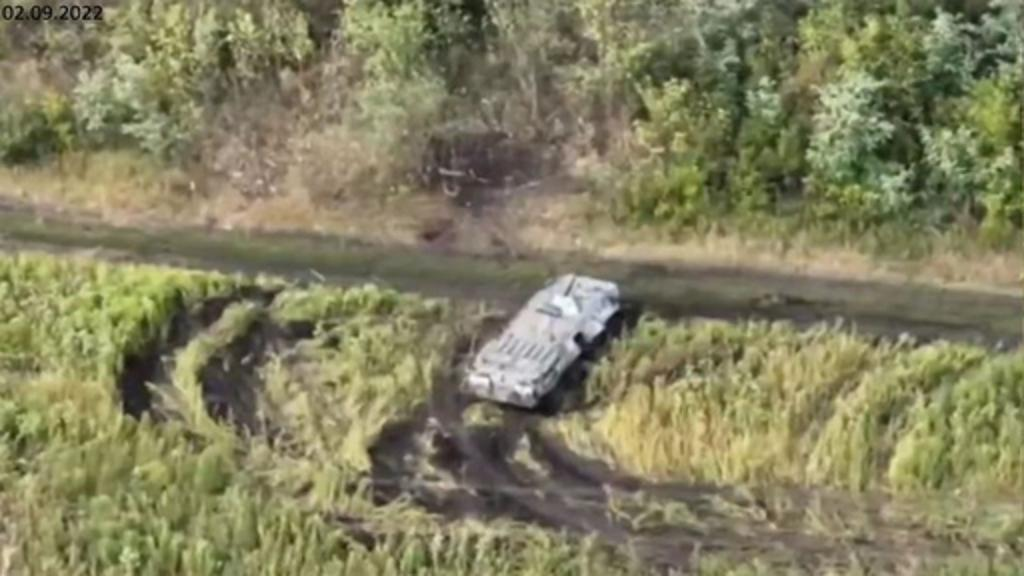APC-IFV: (458, 268, 628, 410)
